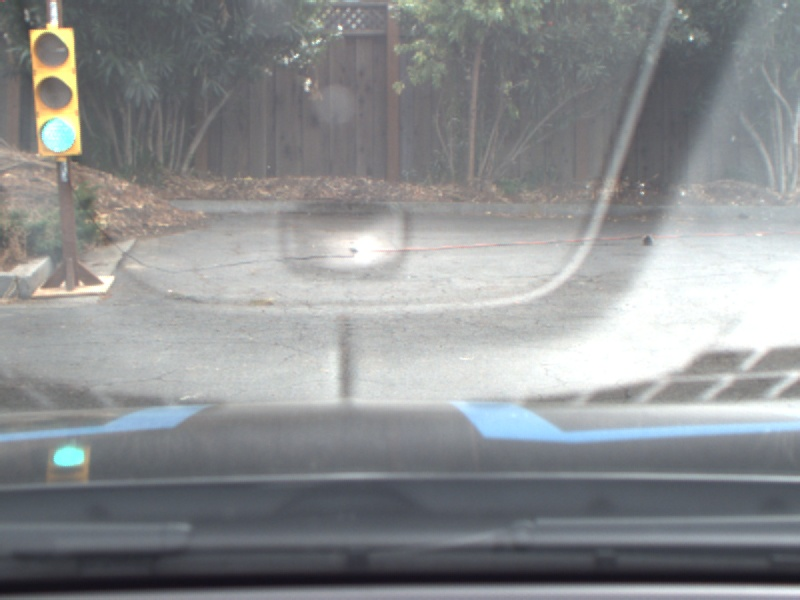green: (27, 25, 86, 156)
